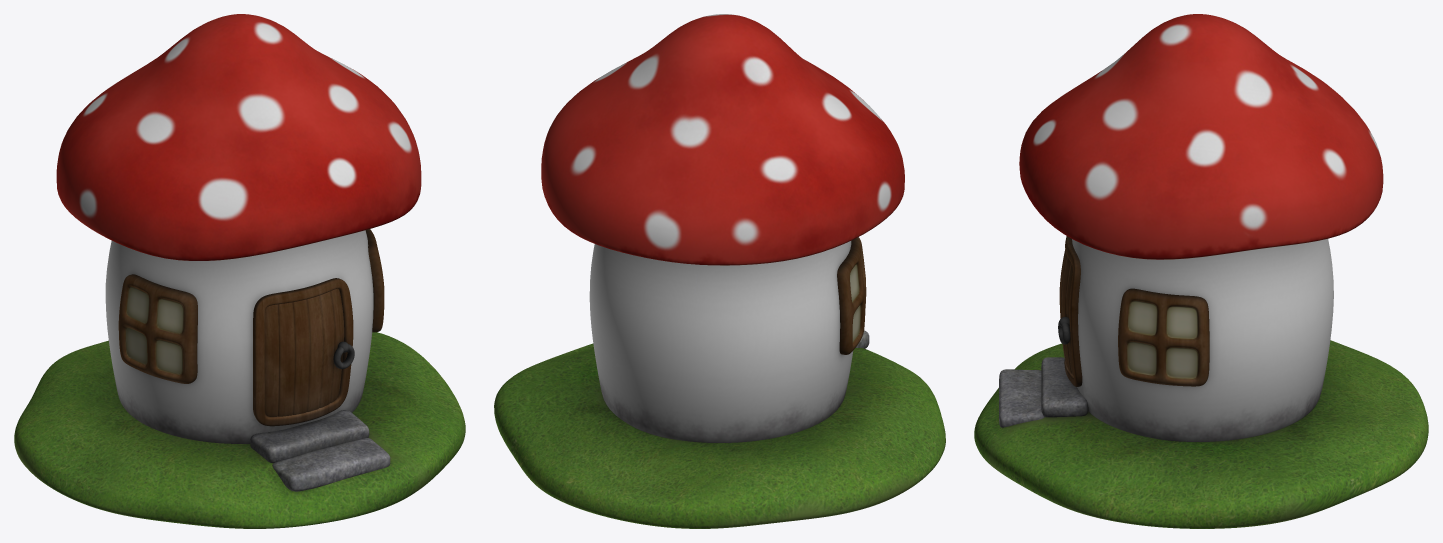
Rendered from mushroom.glb.
3 renders of one model, left to right at view 1: azimuth 30°, elevation 25°; view 2: azimuth 150°, elevation 25°; view 3: azimuth 270°, elevation 25°, orthographic.
Visible parts, largest first — view 1: 20951_Mushroom_v2_NEW; view 2: 20951_Mushroom_v2_NEW; view 3: 20951_Mushroom_v2_NEW.
Part boxes in pixels (x1,y1,x2,y2): 20951_Mushroom_v2_NEW: [14, 14, 465, 528]; 20951_Mushroom_v2_NEW: [494, 14, 945, 528]; 20951_Mushroom_v2_NEW: [974, 14, 1428, 528].
Size of the model in its own units: 9.83 by 9.92 by 9.82.
1 material, 1 textured.
